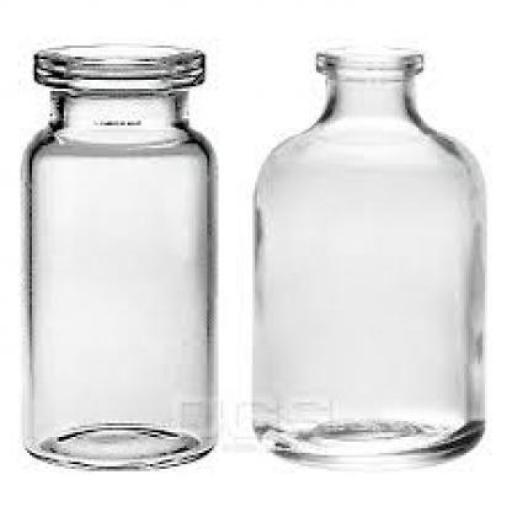glass: (252, 45, 482, 462), (18, 45, 216, 469)
